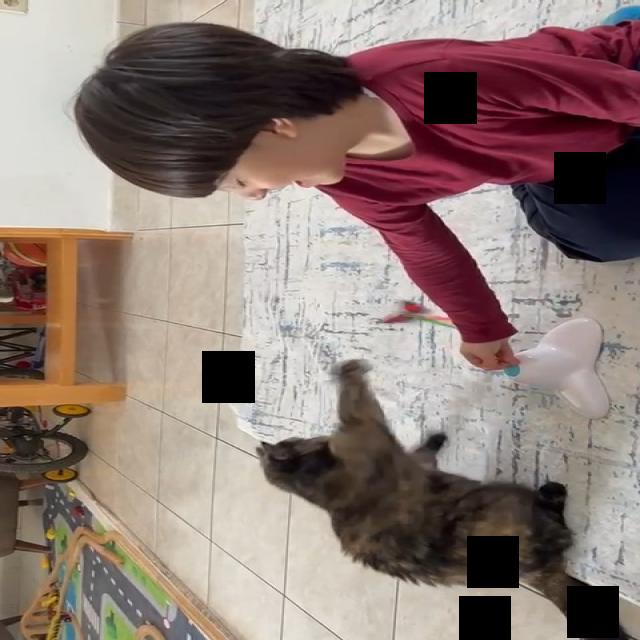authorized: (255, 358, 632, 639)
